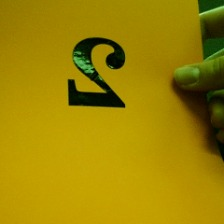orange2: (61, 34, 132, 109)
